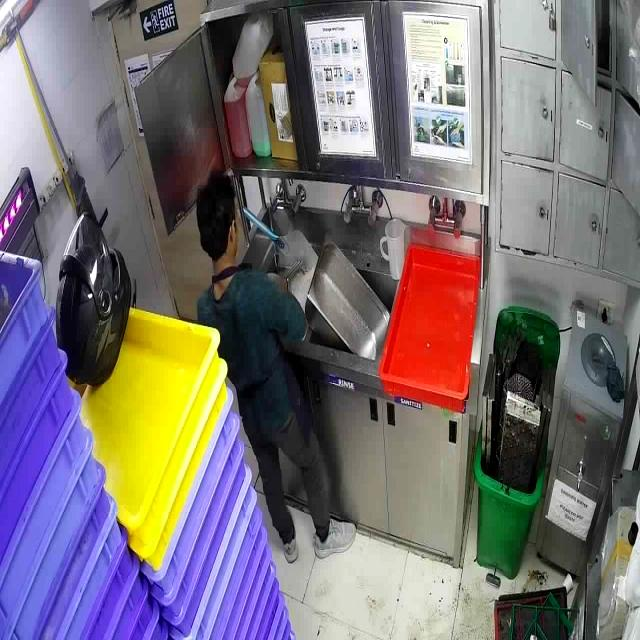helmet: (53, 211, 131, 390), (197, 171, 237, 274)
